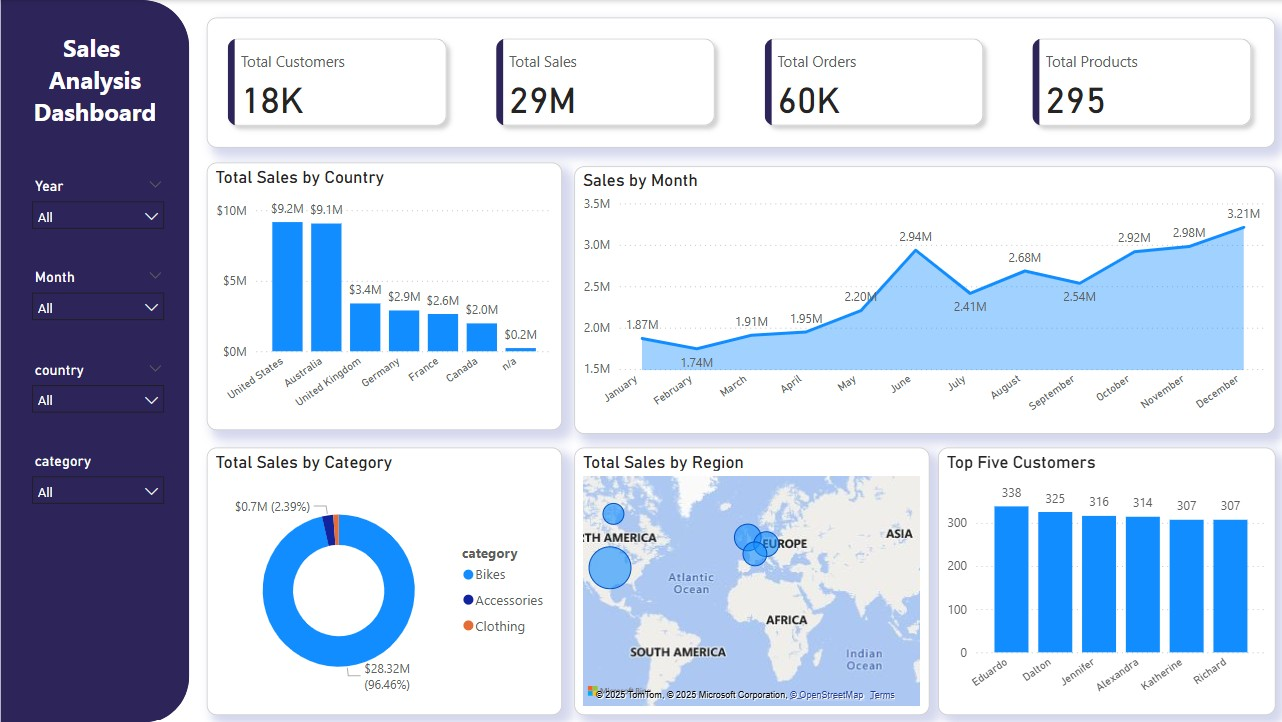

Layout of this report page (visuals, bound fields, positions):
{"tool":"powerbi","page":{"name":"Overview","canvas":[1280,720],"ordinal":0},"visuals":[{"type":"shape","box":[2.5,0,187.8,720.3],"z":0},{"type":"cardVisual","fields":{"Data":["measure.Total Customers","measure.Total Sales","measure.Total Orders","measure.Total Products"]},"box":[207.7,17.4,1063.6,129.4],"z":1000},{"type":"clusteredColumnChart","title":"Total Sales by Country","fields":{"Y":["measure.Total Sales"],"Category":["dim_customers.country"]},"box":[207.7,161.7,353.3,266.2],"z":2000},{"type":"lineChart","title":"Sales by Month","fields":{"Y":["measure.Total Sales"],"Category":["Calendar.Date.Variation.Date Hierarchy.Month"]},"box":[573.5,165.4,697.9,266.2],"z":3000},{"type":"textbox","box":[8.7,26.1,175.4,120.7],"z":4000},{"type":"slicer","fields":{"Values":["Calendar.Date.Variation.Date Hierarchy.Year"]},"box":[23.6,171.7,151.8,72.1],"z":5000},{"type":"donutChart","title":"Total Sales by Category","fields":{"Category":["dim_products.category"],"Y":["measure.Total Sales"]},"box":[207.7,445.3,353.3,266.2],"z":6000},{"type":"slicer","fields":{"Values":["Calendar.Date.Variation.Date Hierarchy.Month"]},"box":[23.6,262.9,151.8,72.1],"z":7000},{"type":"slicer","fields":{"Values":["dim_customers.country"]},"box":[23.6,354.1,151.8,72.1],"z":8000},{"type":"slicer","fields":{"Values":["dim_products.category"]},"box":[23.6,445.3,151.8,72.1],"z":9000},{"type":"map","title":"Total Sales by Region","fields":{"Category":["dim_customers.country"],"Size":["measure.Total Sales"]},"box":[573.5,445.3,353.3,266.2],"z":10000},{"type":"clusteredColumnChart","title":"Top Five Customers","fields":{"Category":["dim_customers.first_name"],"Y":["measure.Total Orders"]},"box":[935.5,445.3,335.9,266.2],"z":11000}]}

Visuals, with their boxes in screenshot pixels (x1, y1, x2, y2), scaled from the page's 1280x720 canvas onto the 1282x722 screenshot:
shape: region(3, 0, 191, 721)
cardVisual - measure.Total Customers x measure.Total Sales: region(208, 17, 1273, 147)
"Total Sales by Country" clusteredColumnChart: region(208, 162, 562, 429)
"Sales by Month" lineChart: region(574, 166, 1273, 433)
textbox: region(9, 26, 184, 147)
slicer - Calendar.Date.Variation.Date Hierarchy.Year: region(24, 172, 176, 244)
"Total Sales by Category" donutChart: region(208, 447, 562, 713)
slicer - Calendar.Date.Variation.Date Hierarchy.Month: region(24, 264, 176, 336)
slicer - dim_customers.country: region(24, 355, 176, 427)
slicer - dim_products.category: region(24, 447, 176, 519)
"Total Sales by Region" map: region(574, 447, 928, 713)
"Top Five Customers" clusteredColumnChart: region(937, 447, 1273, 713)
